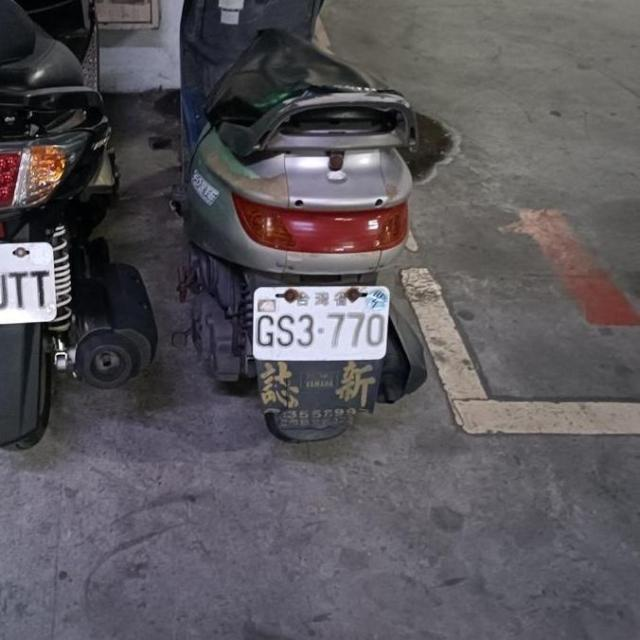W: (250, 280, 393, 364), (0, 236, 61, 330)
